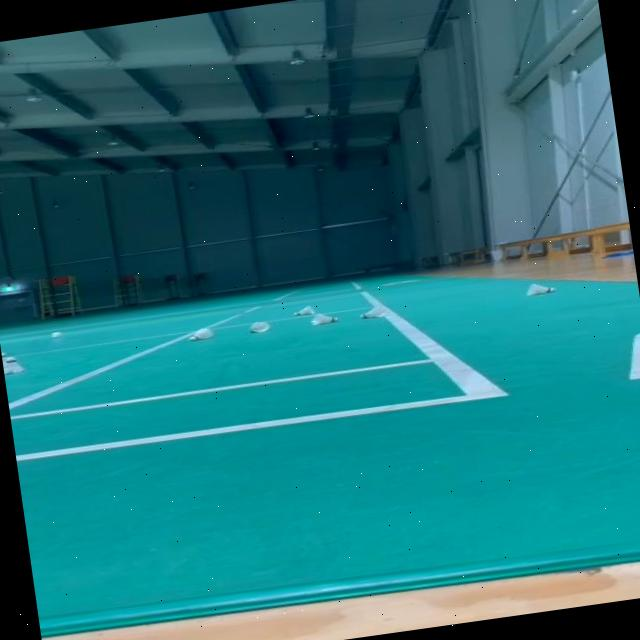Shuttle: (358, 302, 390, 320), (526, 279, 556, 297), (3, 353, 26, 375), (311, 310, 341, 326), (188, 326, 216, 342), (246, 318, 272, 335), (291, 302, 316, 318), (1, 349, 14, 372), (50, 330, 64, 340)
